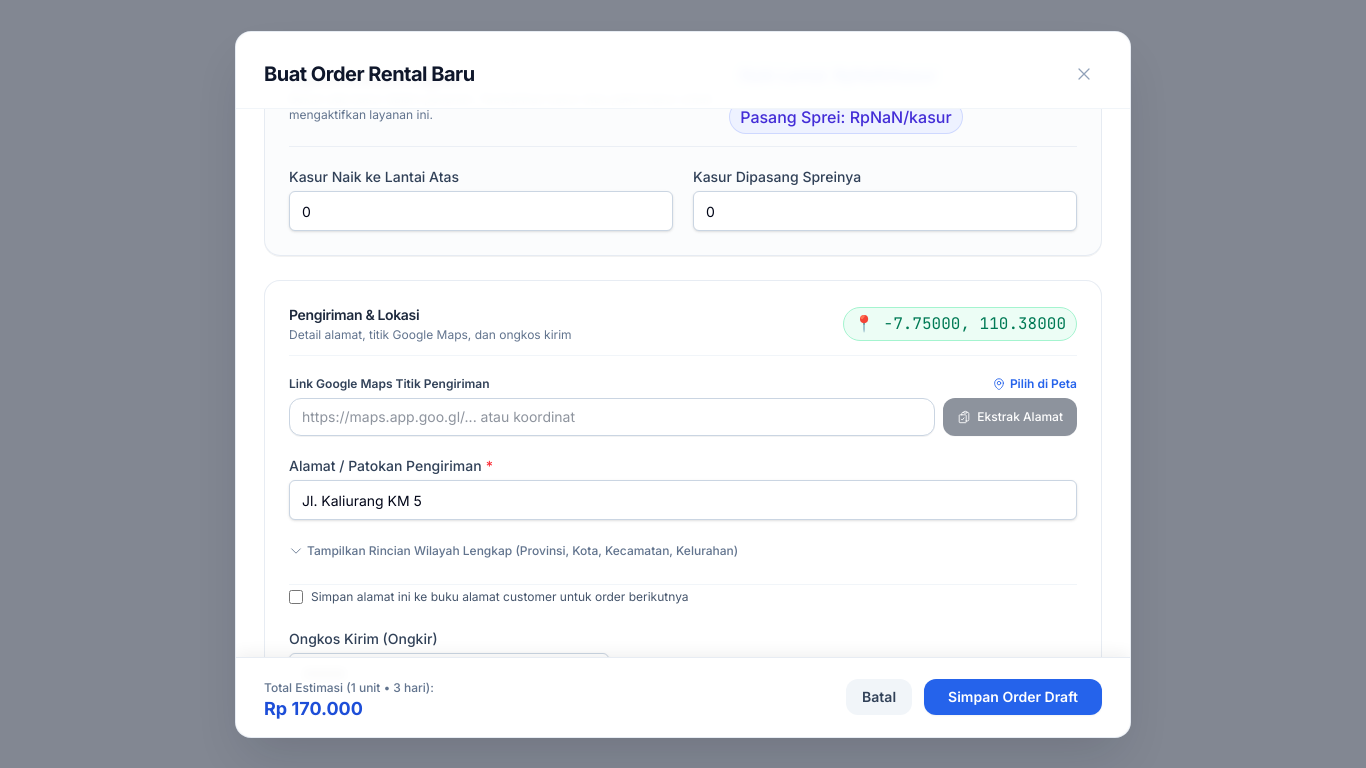
it: CreateOrderModal - MapSelectorModal integration and focus management › closes MapSelectorModal when Batal is clicked inside it
(page scrolled)
Click the button "Pilih di Peta".
click(1034, 384)  # box [992,376,1077,392]
(page scrolled)
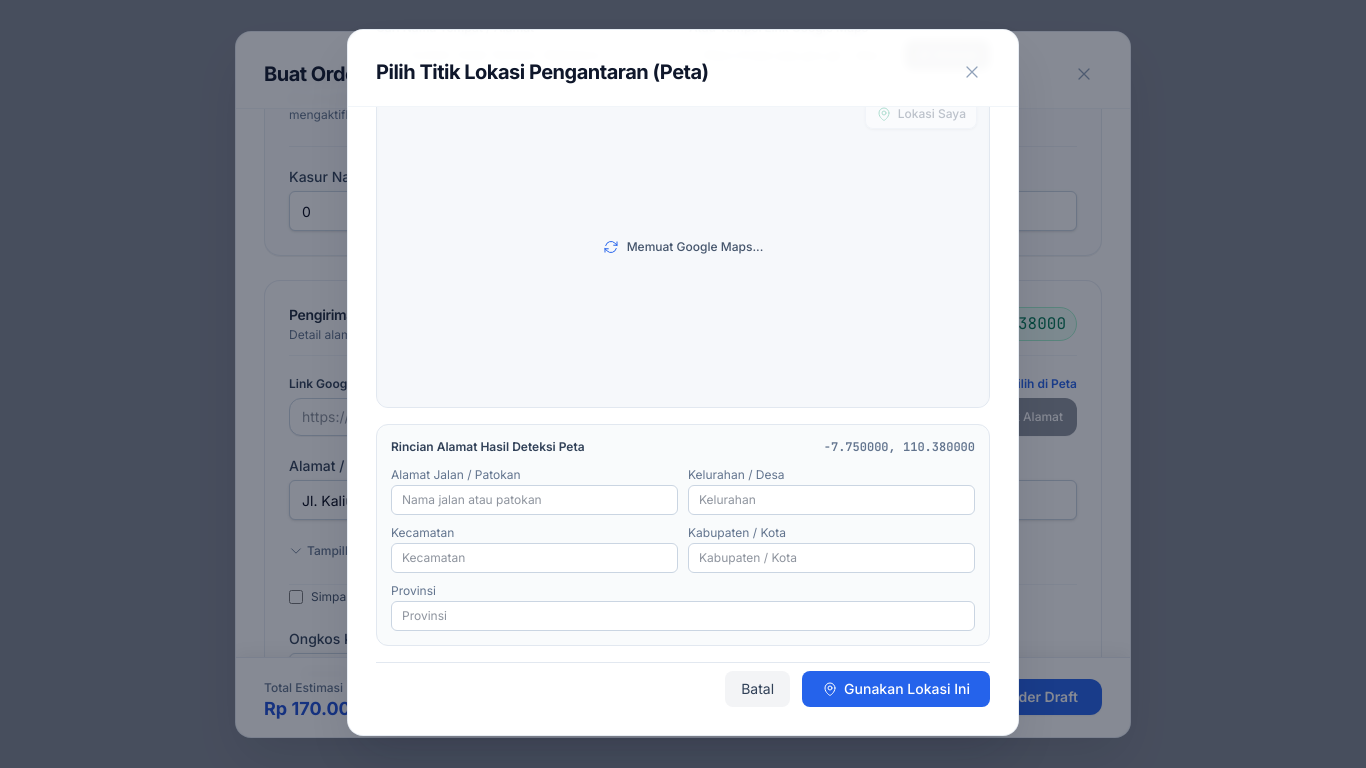
Expected: the heading "Pilih Titik Lokasi Pengantaran (Peta)" is shown, [376,58,709,86]
Expected: the dialog that starts with "Pilih Titik Lokasi Pengantaran (Peta)" is shown
Click the button "Batal".
click(758, 689)  # box [725,671,790,707]
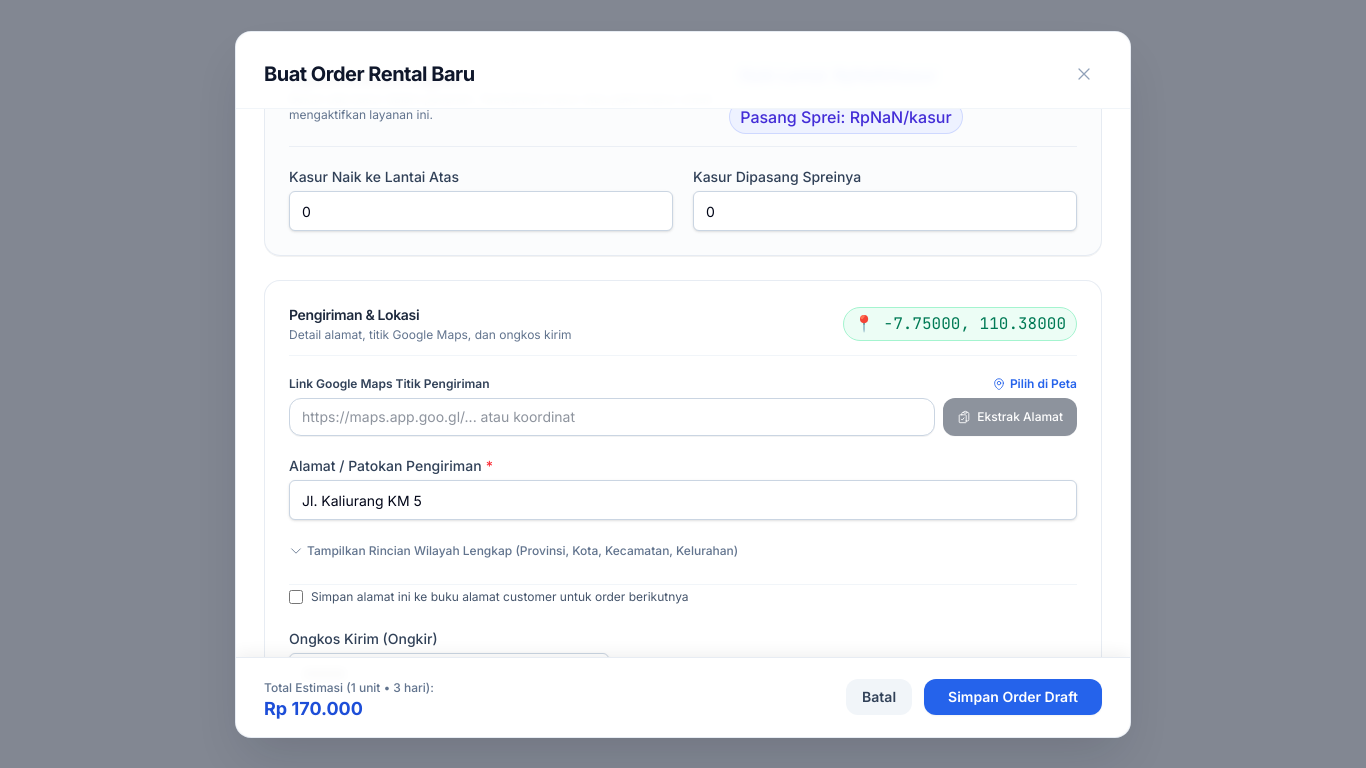
Expected: the heading "Pilih Titik Lokasi Pengantaran (Peta)" is gone
